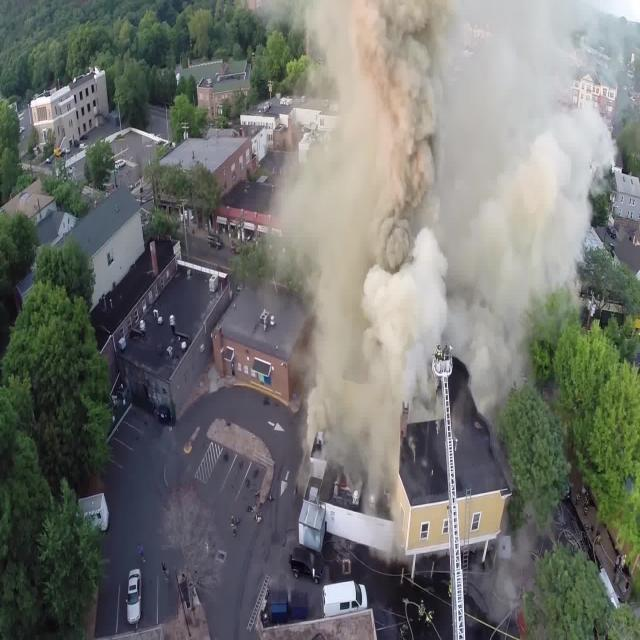Smoke: (308, 21, 414, 457), (462, 21, 549, 352)
